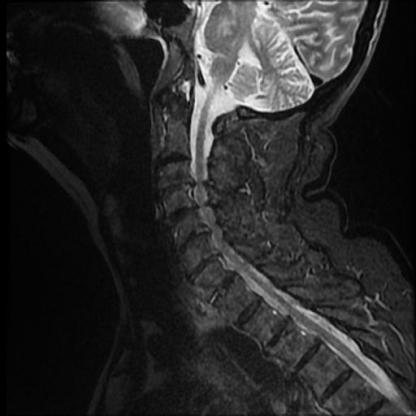Disc Bulgerotation: (168, 233, 216, 250), (182, 257, 227, 274), (161, 206, 199, 224), (155, 182, 193, 197), (156, 152, 190, 168)
Disc Protrusionrotation: (156, 152, 190, 168)
